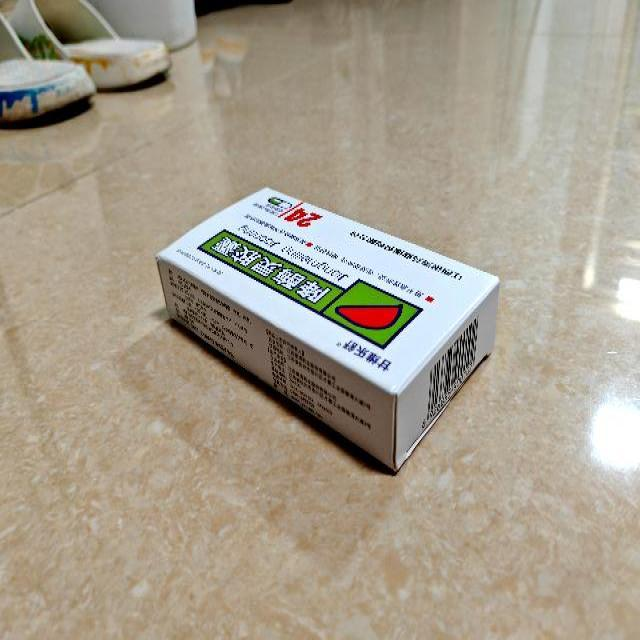box: (158, 186, 500, 474)
